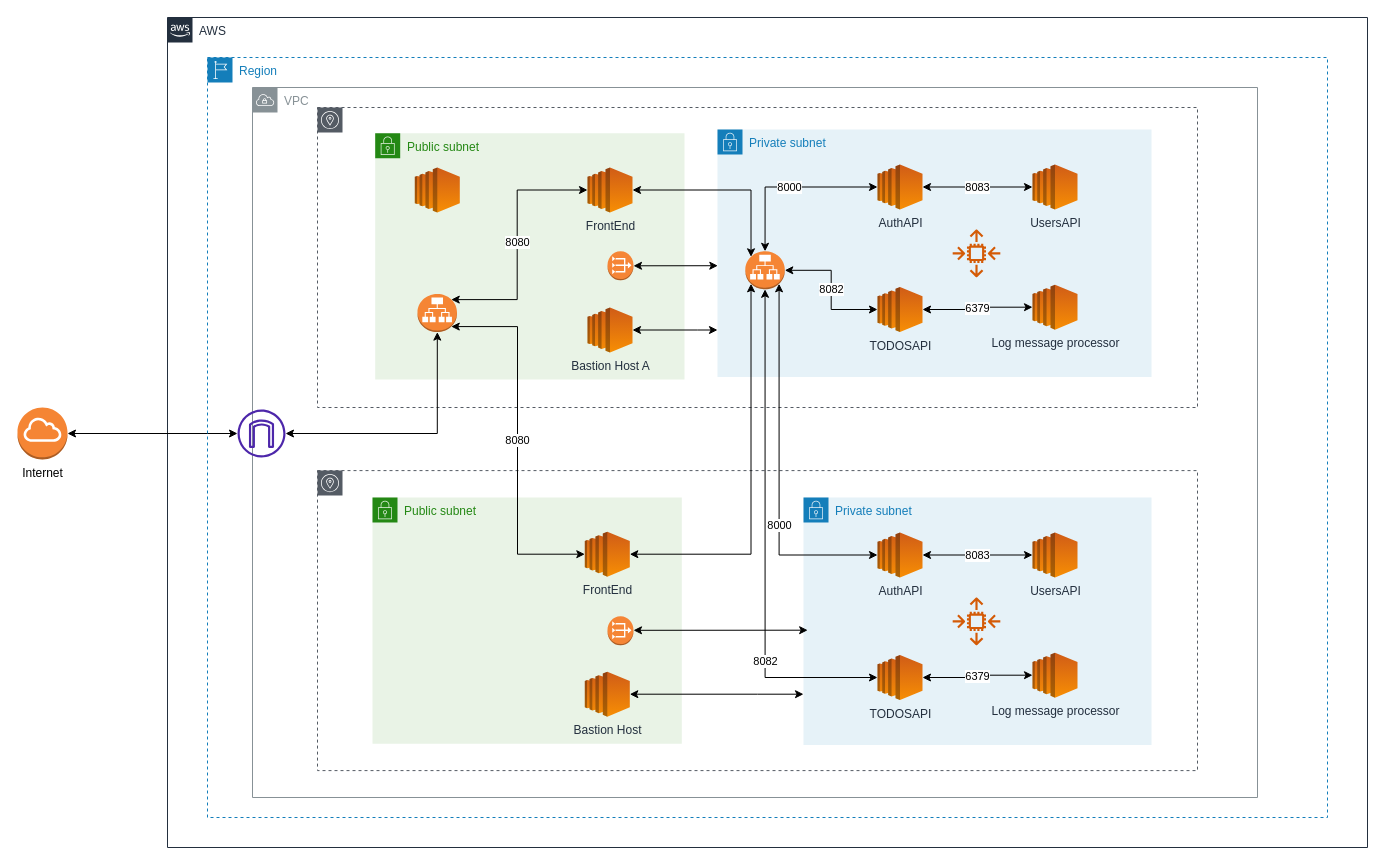
This 1385x865 diagram has some shape labels left out. The box of each missing label's shape, as (x1, y1, x2, y2) in pixels:
Availability zone A: (316, 106, 1198, 408)
Availability zone B: (316, 470, 1198, 771)
Internet gateway: (237, 409, 285, 457)
Jenkins: (414, 166, 460, 212)
